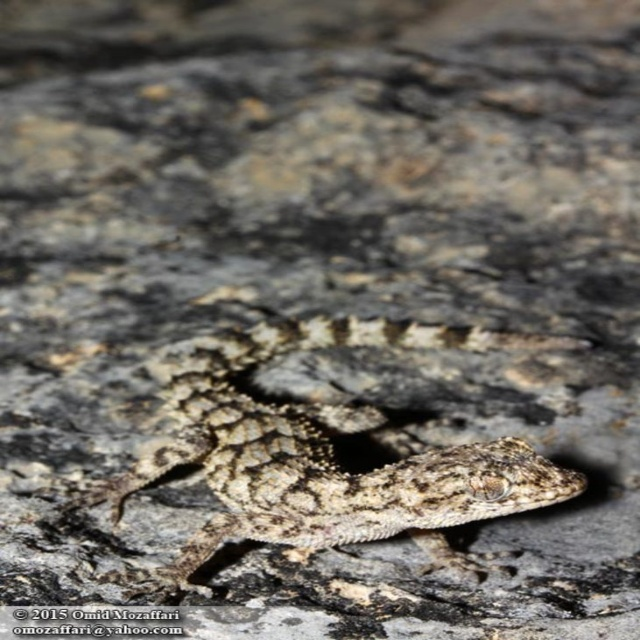Lizard: (29, 310, 585, 609)
